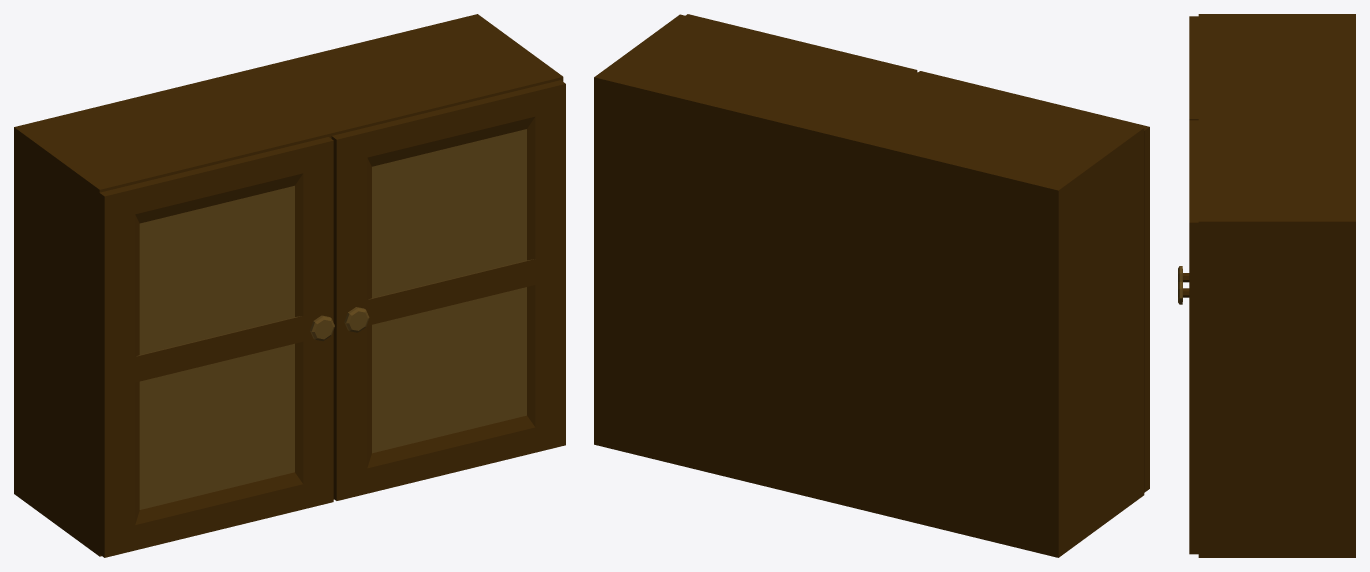
Rendered from Cabinets.fbx.
3 renders of one model, left to right at view 1: azimuth 30°, elevation 25°; view 2: azimuth 150°, elevation 25°; view 3: azimuth 270°, elevation 25°, orthographic. The views are drawn at different scales.
Parts seen in each view (by area): view 1: LeftCabinetDoor, RightCabinetDoor, Cabinets; view 2: Cabinets, LeftCabinetDoor, RightCabinetDoor; view 3: Cabinets, RightCabinetDoor, LeftCabinetDoor.
Boxes of the visible parts, <box> form: LeftCabinetDoor: <box>99,137,334,557</box>; RightCabinetDoor: <box>331,80,565,500</box>; Cabinets: <box>14,14,563,556</box>; Cabinets: <box>594,14,1144,557</box>; LeftCabinetDoor: <box>918,71,1149,492</box>; RightCabinetDoor: <box>685,14,917,71</box>; Cabinets: <box>1198,14,1355,557</box>; RightCabinetDoor: <box>1178,120,1198,554</box>; LeftCabinetDoor: <box>1178,16,1198,283</box>.
Bounding box in the file's own units: 1.58 × 1.19 × 0.5715.
